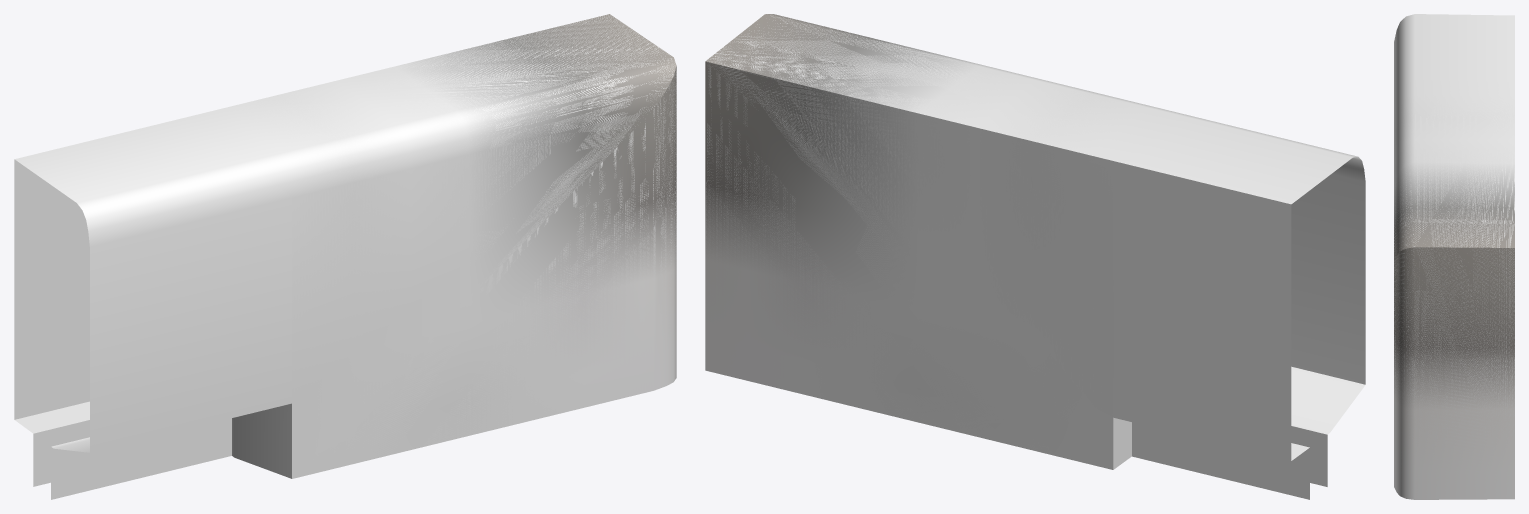
File: original-58.obj
3 views of the same model, side by side, from view 1: azimuth 30°, elevation 25°; view 2: azimuth 150°, elevation 25°; view 3: azimuth 270°, elevation 25° (orthographic). The views are drawn at different scales.
Visible parts, largest first — view 1: DF_21_TR1/DF_21_TR/mesh39/mesh39-geometry#mesh39-geometry; view 2: DF_21_TR1/DF_21_TR/mesh39/mesh39-geometry#mesh39-geometry; view 3: DF_21_TR1/DF_21_TR/mesh39/mesh39-geometry#mesh39-geometry.
Part boxes in pixels (box(x1,y1,x2,y2)): DF_21_TR1/DF_21_TR/mesh39/mesh39-geometry#mesh39-geometry: box(14, 14, 676, 499); DF_21_TR1/DF_21_TR/mesh39/mesh39-geometry#mesh39-geometry: box(705, 14, 1365, 499); DF_21_TR1/DF_21_TR/mesh39/mesh39-geometry#mesh39-geometry: box(1394, 14, 1514, 499).
Bounding box in the file's own units: 0.1444 × 0.073 × 0.0316.
